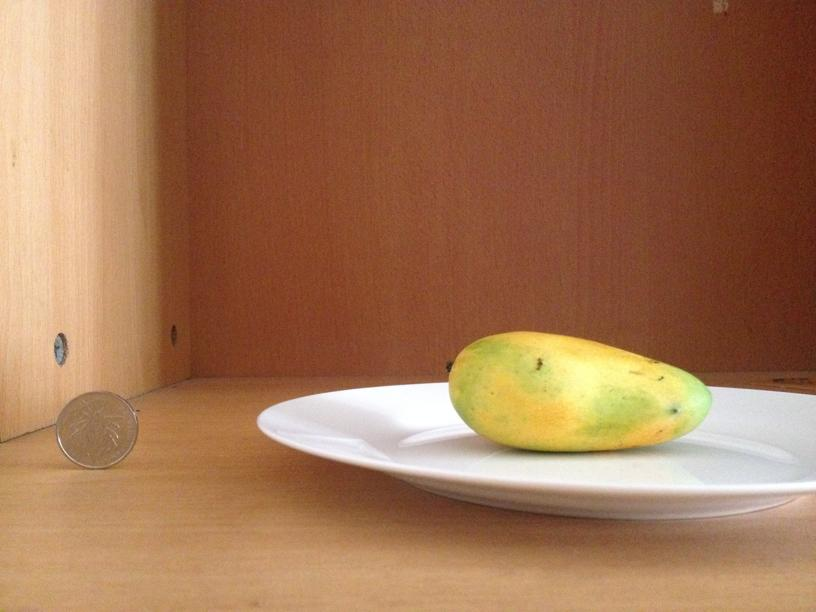coin: (52, 388, 139, 468)
mango: (446, 328, 710, 452)
